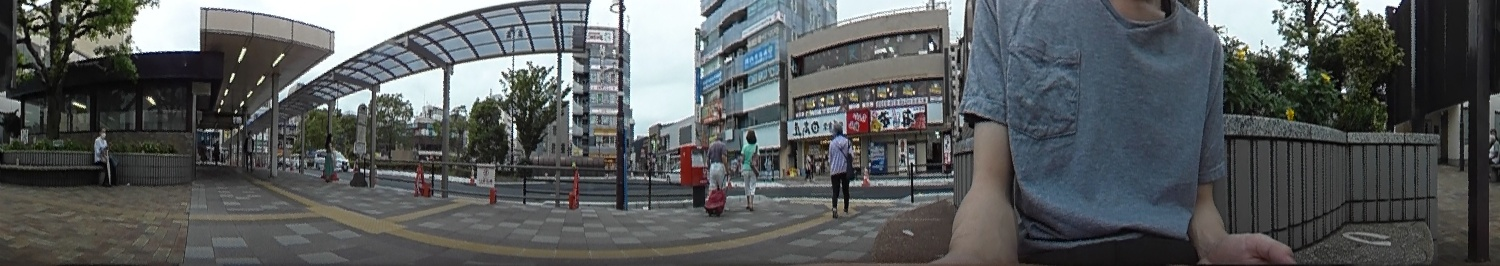difficult_person: (323, 130, 335, 182), (242, 129, 255, 172), (804, 150, 811, 179)
person: (824, 121, 855, 213), (740, 128, 763, 209), (92, 125, 119, 184), (706, 136, 728, 207)
